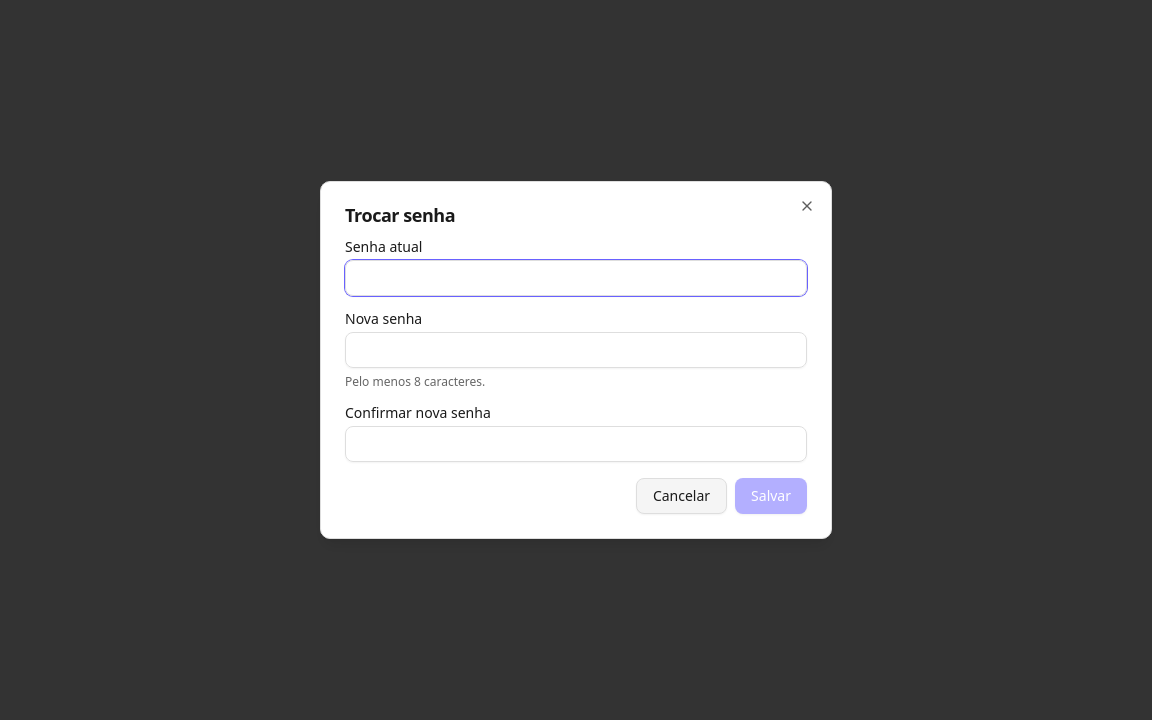
Test: ChangePasswordDialog › senha atual incorreta (400) → mostra a mensagem real da API
The image size is (1152, 720).
Type "errada" into the password field labelled "Senha atual" at (576, 278), box [345, 260, 807, 296]
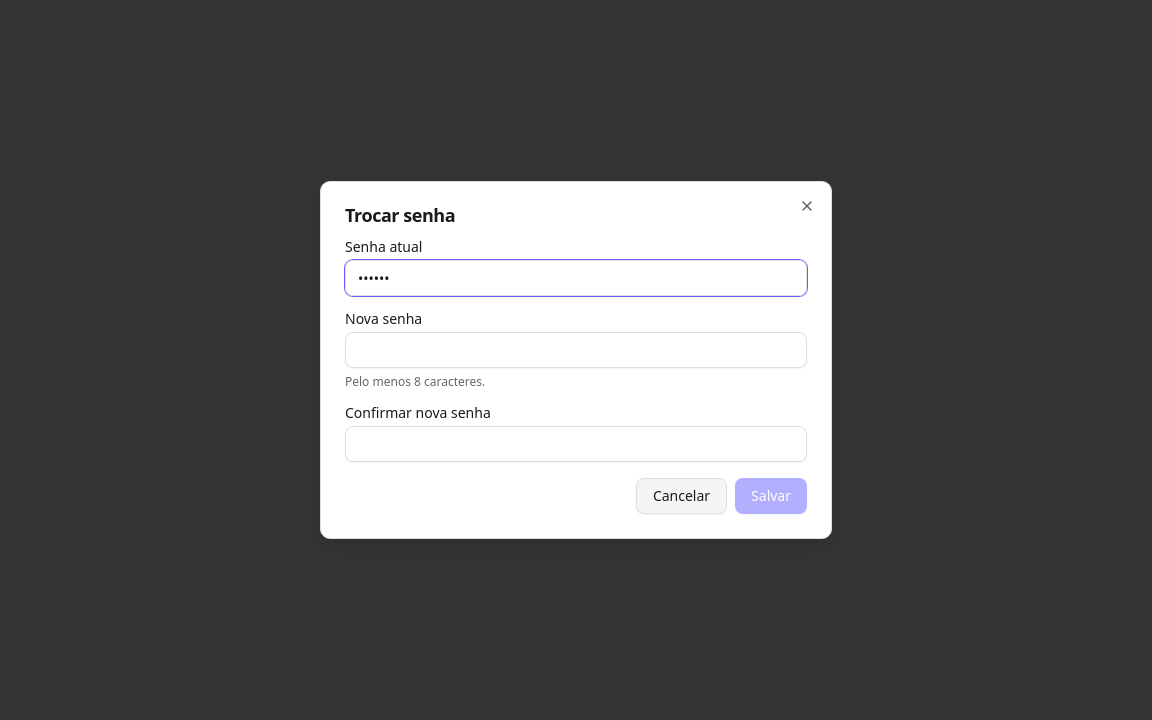
Type "novaSenha1" into the password field labelled "Nova senha" at (576, 350), box [345, 332, 807, 368]
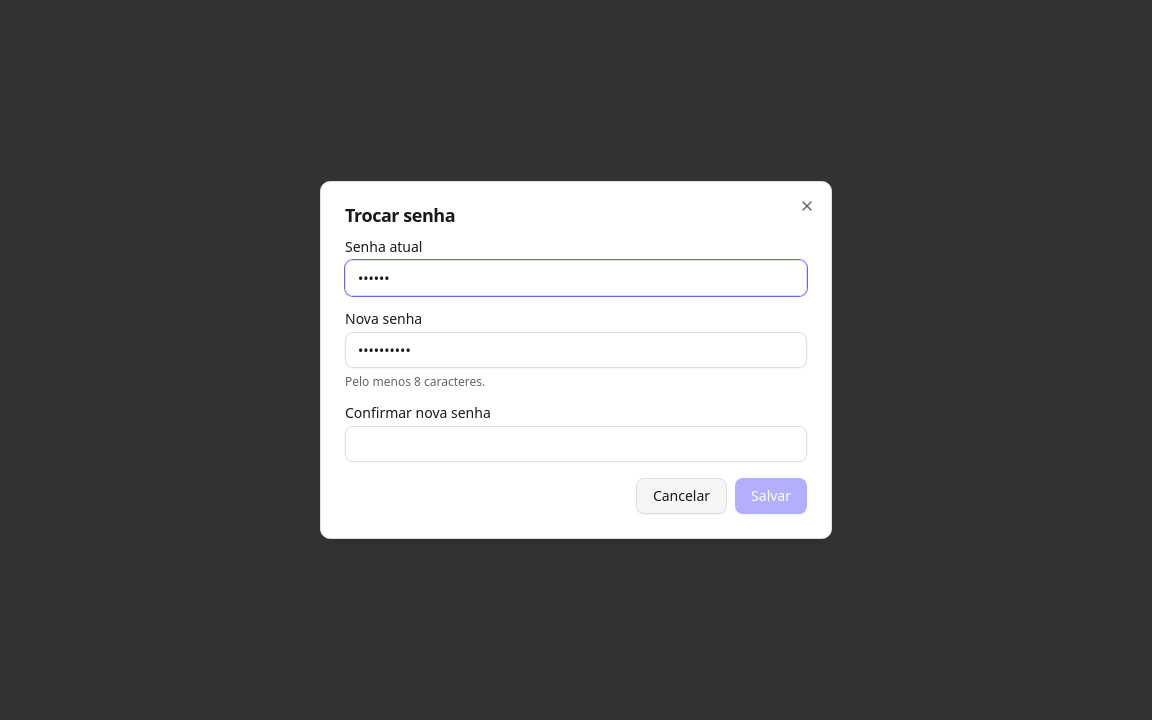
Type "novaSenha1" into the password field labelled "Confirmar nova senha" at (576, 444), box [345, 426, 807, 462]
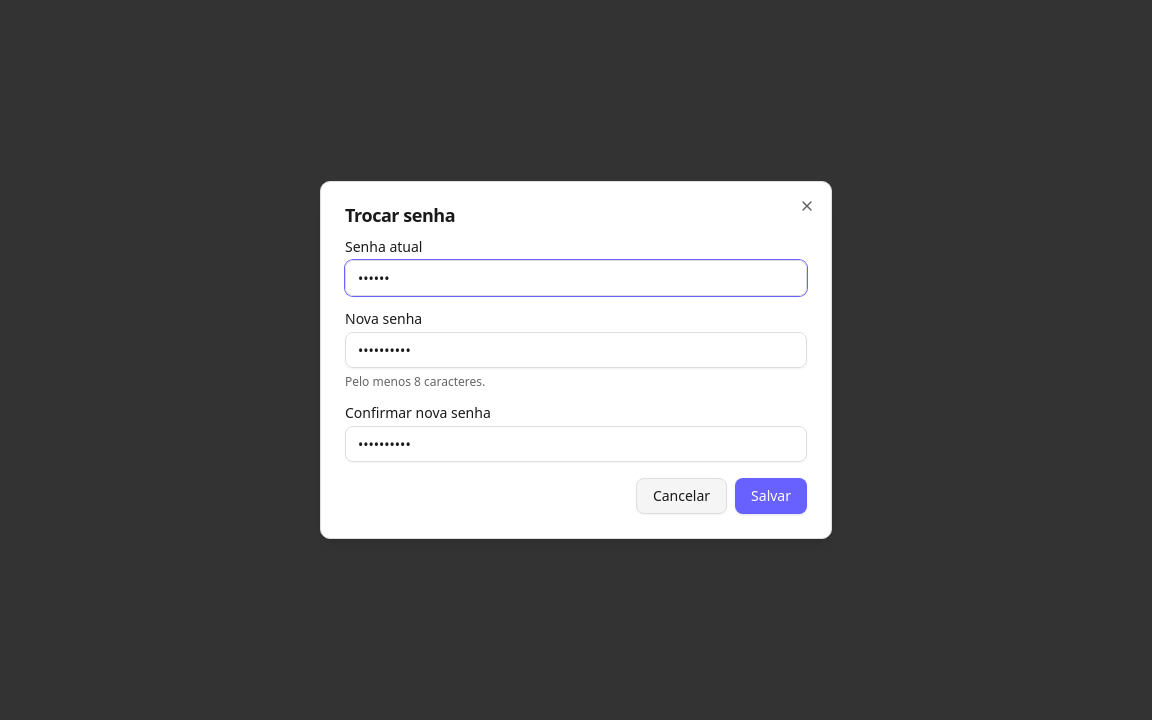
Click the button "Salvar" at (771, 496), box [735, 478, 807, 514]
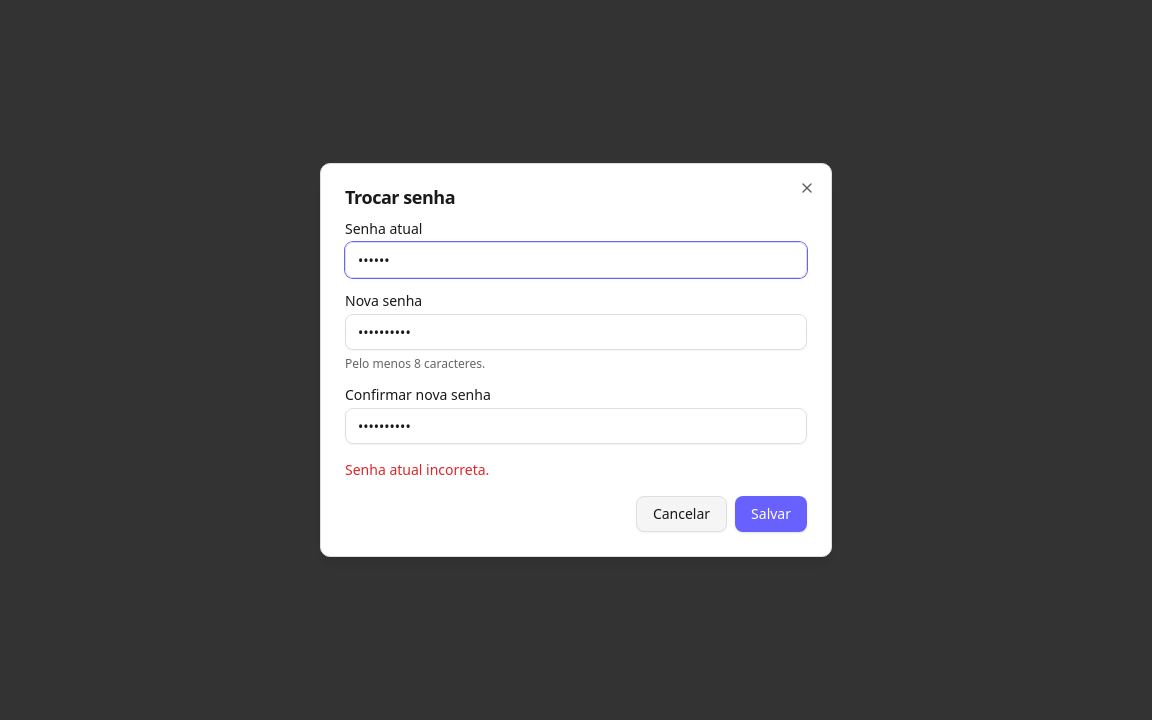
Check: the text "Senha atual incorreta." is shown, box [345, 460, 489, 479]
